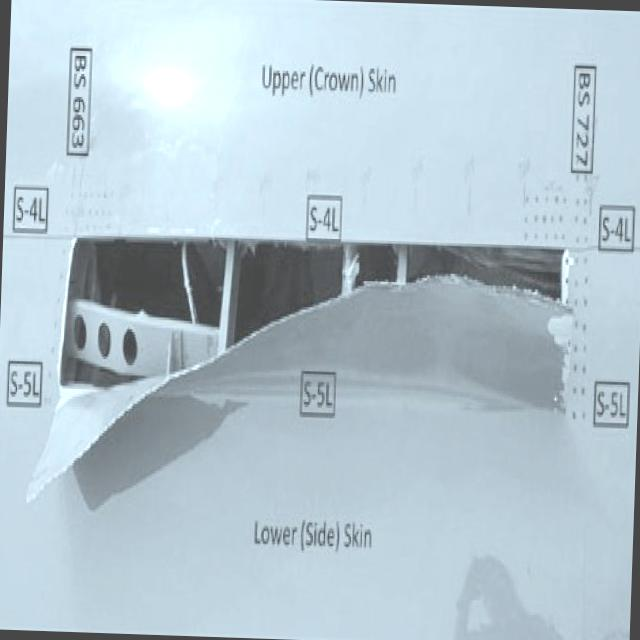crack: (19, 231, 576, 524)
